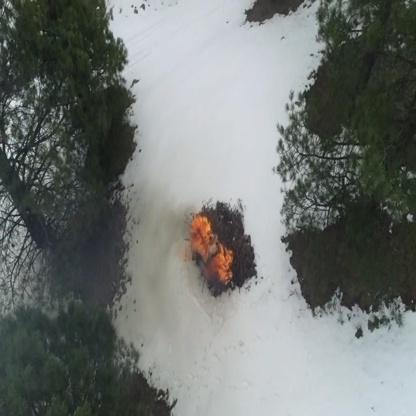Fire: (193, 213, 213, 257), (217, 245, 235, 284), (211, 259, 221, 275)
